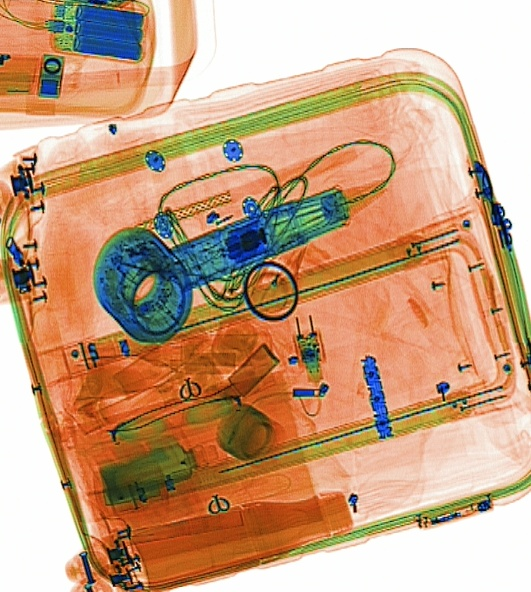powerbank: (44, 2, 150, 63)
